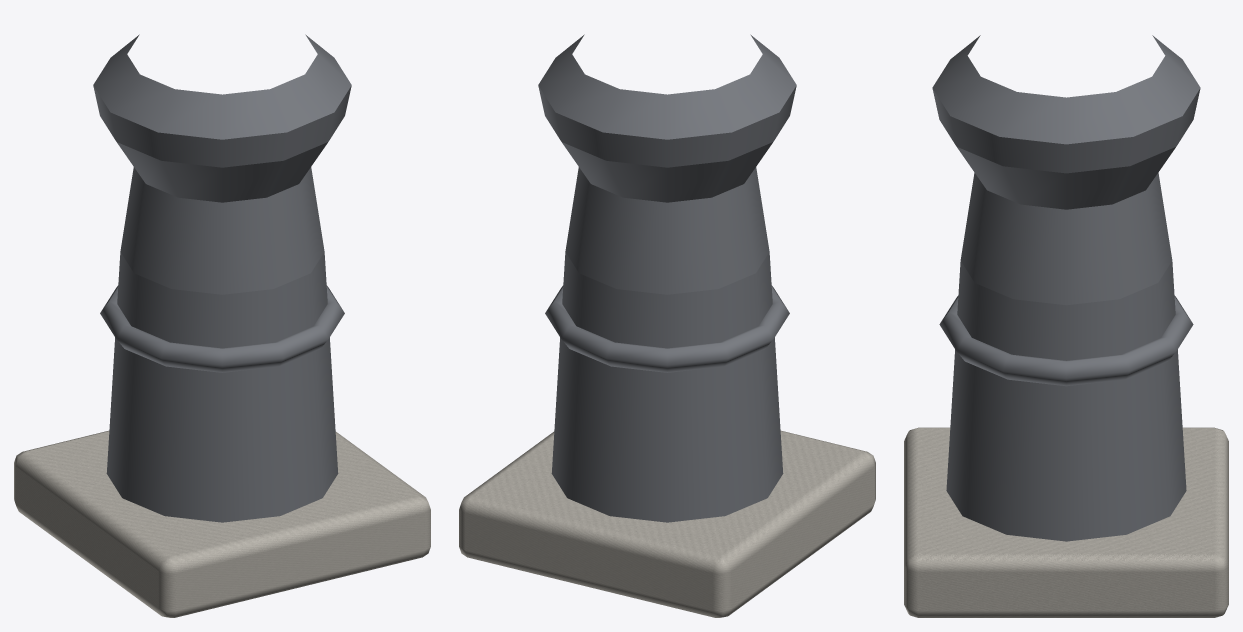
Rendered from greek-island-village-and-harbour-mooring-bollard-cf8c4b11__37103.glb.
3 renders of one model, left to right at view 1: azimuth 30°, elevation 25°; view 2: azimuth 150°, elevation 25°; view 3: azimuth 270°, elevation 25°, orthographic. The views are drawn at different scales.
Parts seen in each view (by area): view 1: mooring-bollard; view 2: mooring-bollard; view 3: mooring-bollard.
Boxes of the visible parts, <box> form: mooring-bollard: <box>14,34,430,617</box>; mooring-bollard: <box>459,34,875,617</box>; mooring-bollard: <box>904,35,1228,617</box>.
Size of the model in its own units: 0.46 by 0.78 by 0.46.
2 materials, 1 textured.
